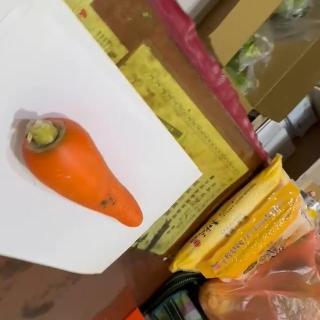carrot: (20, 116, 144, 228)
